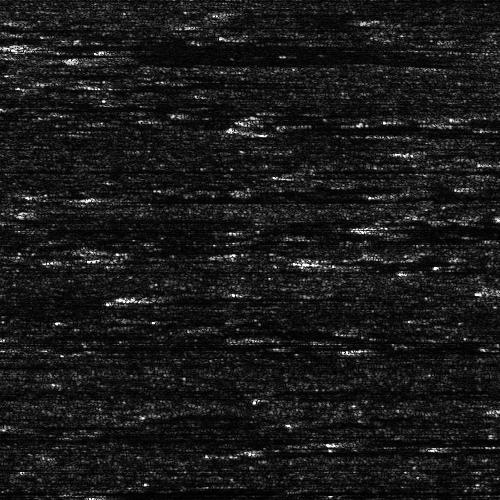object: (73, 40, 178, 57), (41, 191, 198, 202), (0, 36, 91, 53), (56, 487, 161, 500), (73, 53, 166, 62), (370, 218, 433, 231), (116, 293, 189, 304), (317, 437, 400, 444), (0, 213, 58, 222), (321, 345, 374, 354), (72, 81, 135, 86), (283, 445, 304, 450)
shadow: (38, 36, 482, 53), (126, 40, 500, 57), (120, 191, 482, 202), (120, 53, 497, 62), (153, 293, 383, 304), (109, 487, 284, 500), (0, 353, 116, 370), (1, 213, 214, 222), (402, 218, 479, 231), (294, 445, 470, 450), (104, 81, 252, 86), (348, 345, 430, 354), (359, 437, 447, 444), (0, 32, 47, 41)
